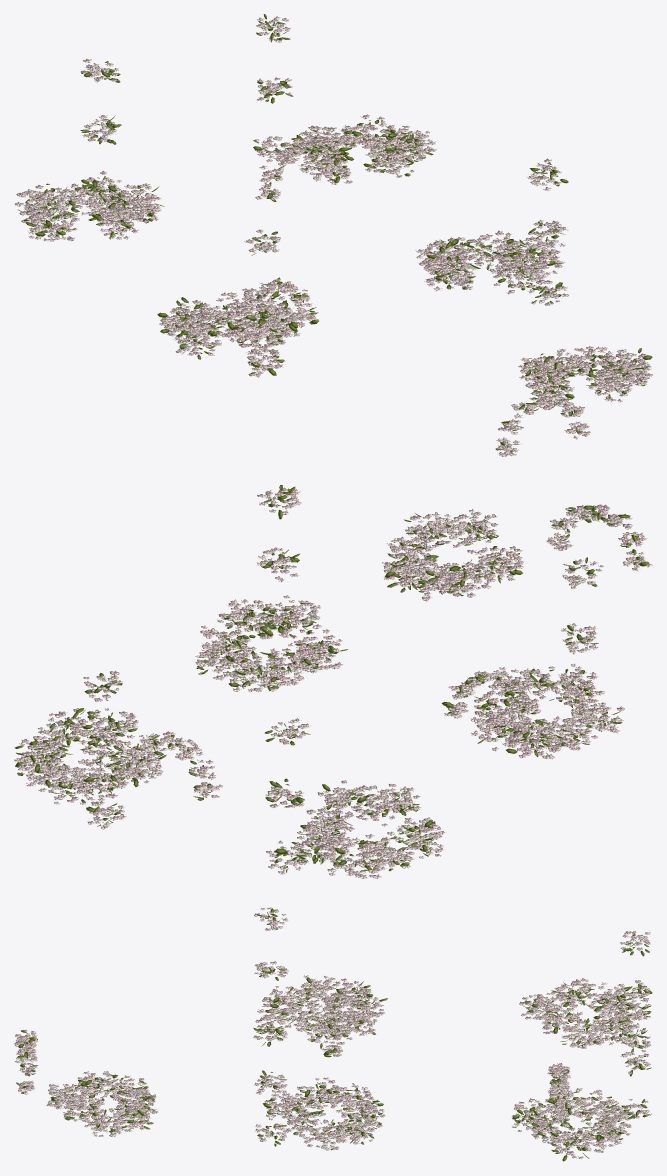
Rendered from R4_Blossoms.fbx.
3 renders of one model, top to bottom at view 1: azimuth 30°, elevation 25°; view 2: azimuth 150°, elevation 25°; view 3: azimuth 270°, elevation 25°, orthographic. The views are drawn at different scales.
Visible parts, largest first — view 1: R4_Blossoms; view 2: R4_Blossoms; view 3: R4_Blossoms.
Boxes of the visible parts, box(x1,y1,x2,y2) form: R4_Blossoms: box(14, 14, 652, 456); R4_Blossoms: box(14, 485, 652, 878); R4_Blossoms: box(14, 907, 652, 1161).
Size of the model in its own units: 36.45 by 11.87 by 59.58.
